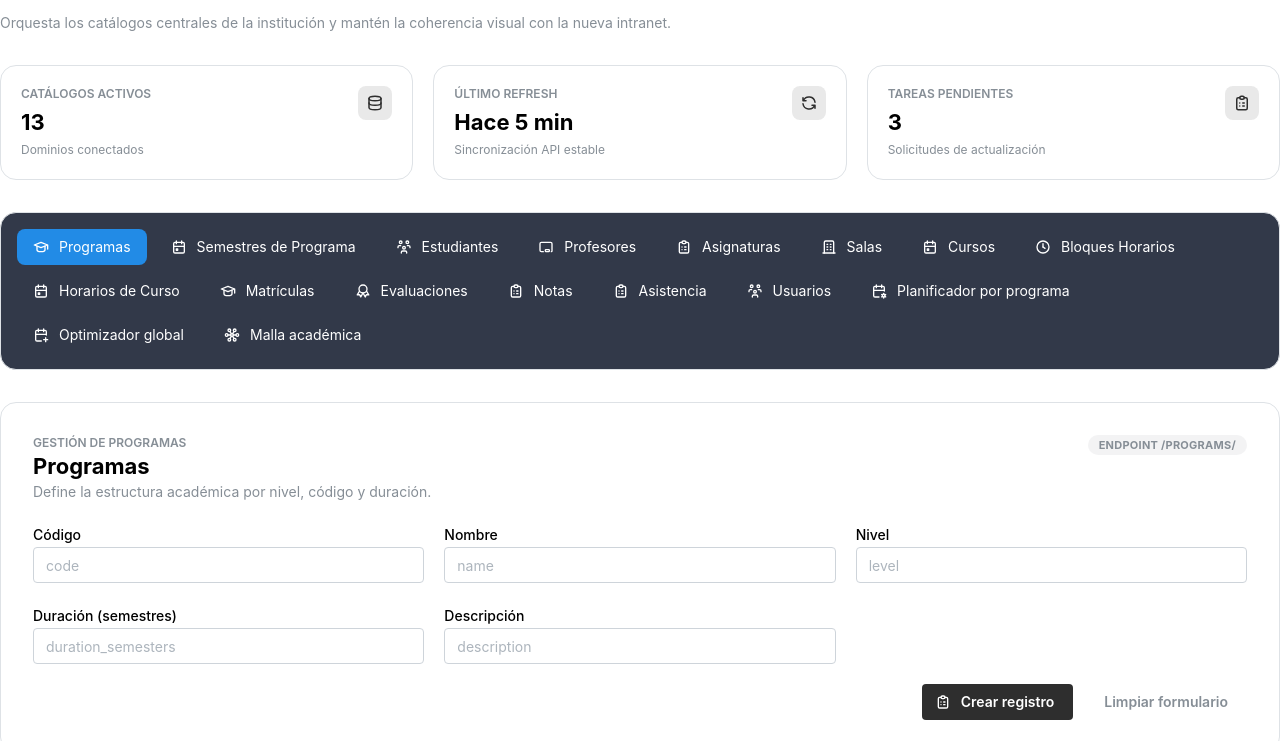
Test: Admin CRUD básico › muestra errores de validación cuando faltan campos requeridos
The width and height of the screenshot is (1280, 741).
Step 1. Click the tab "Bloques Horarios" → (1105, 247), box [1019, 229, 1191, 265]
(page scrolled)
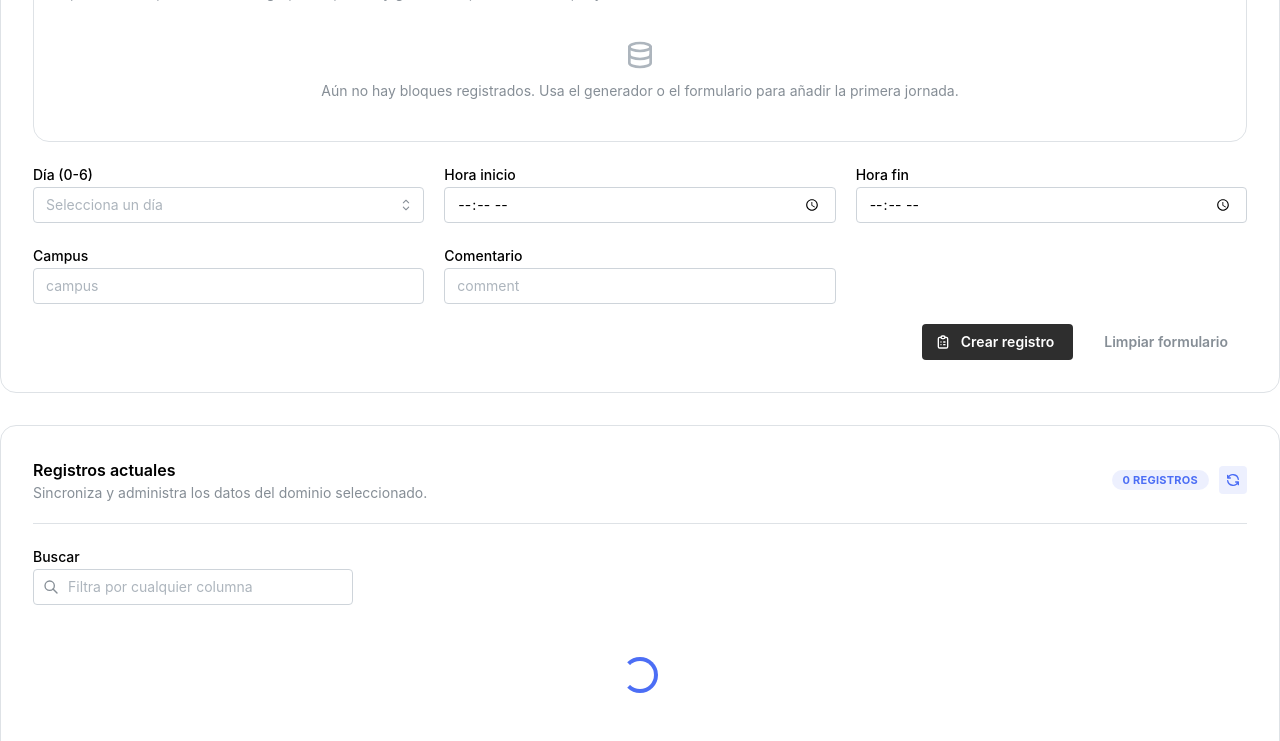
Step 2. Click the button "Crear registro" → (998, 342), box [922, 324, 1073, 360]
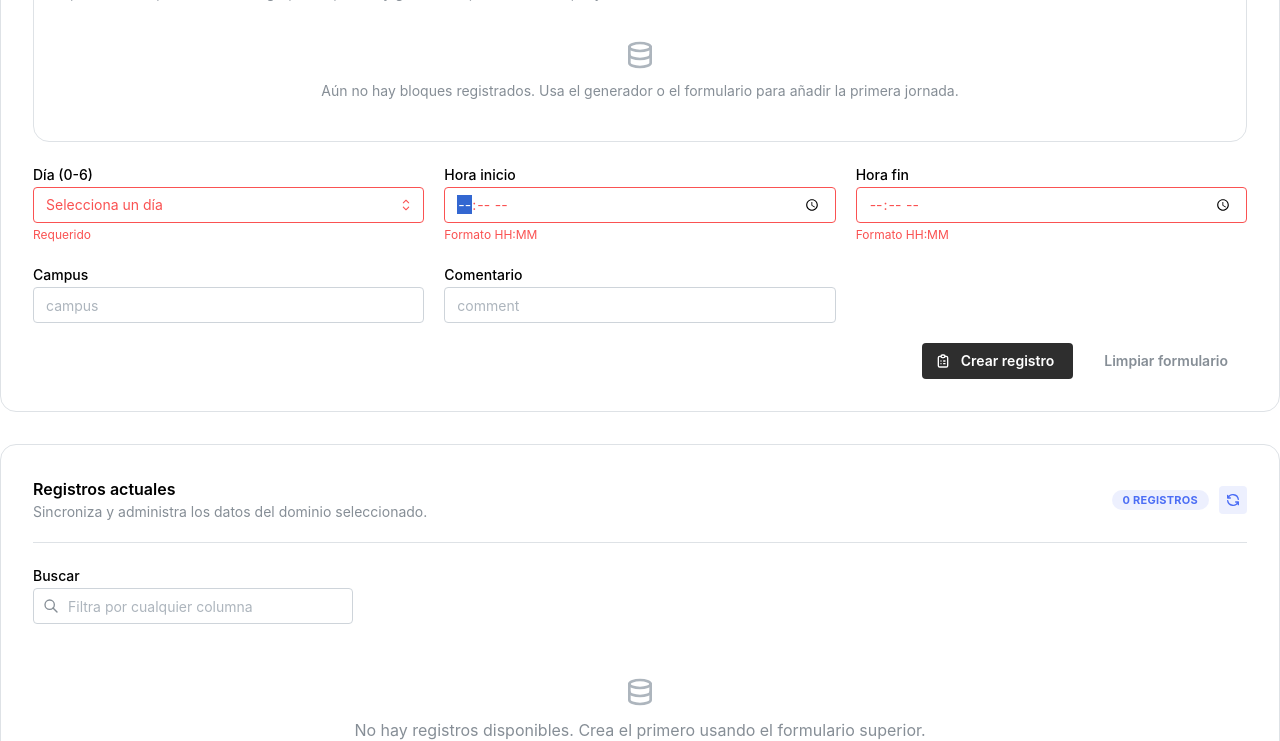
Now the text "Requerido" is shown, box [33, 227, 91, 242]
